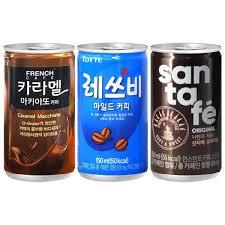letsbe: (75, 43, 150, 180)
